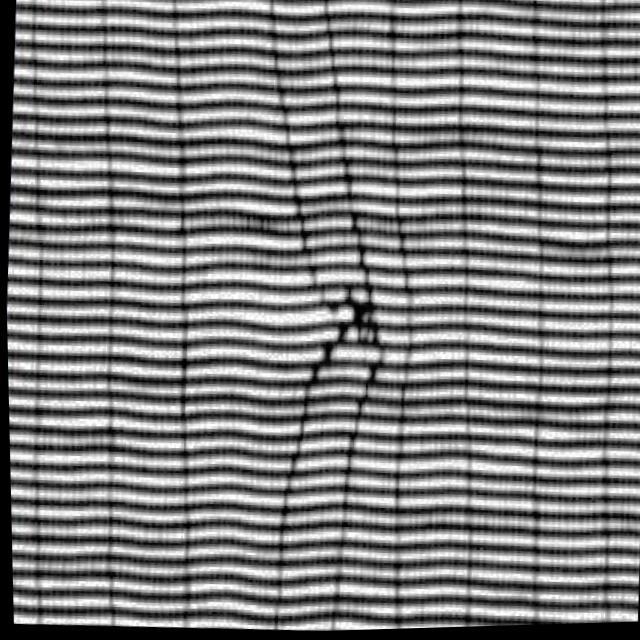Stitch: (244, 184, 423, 556)
